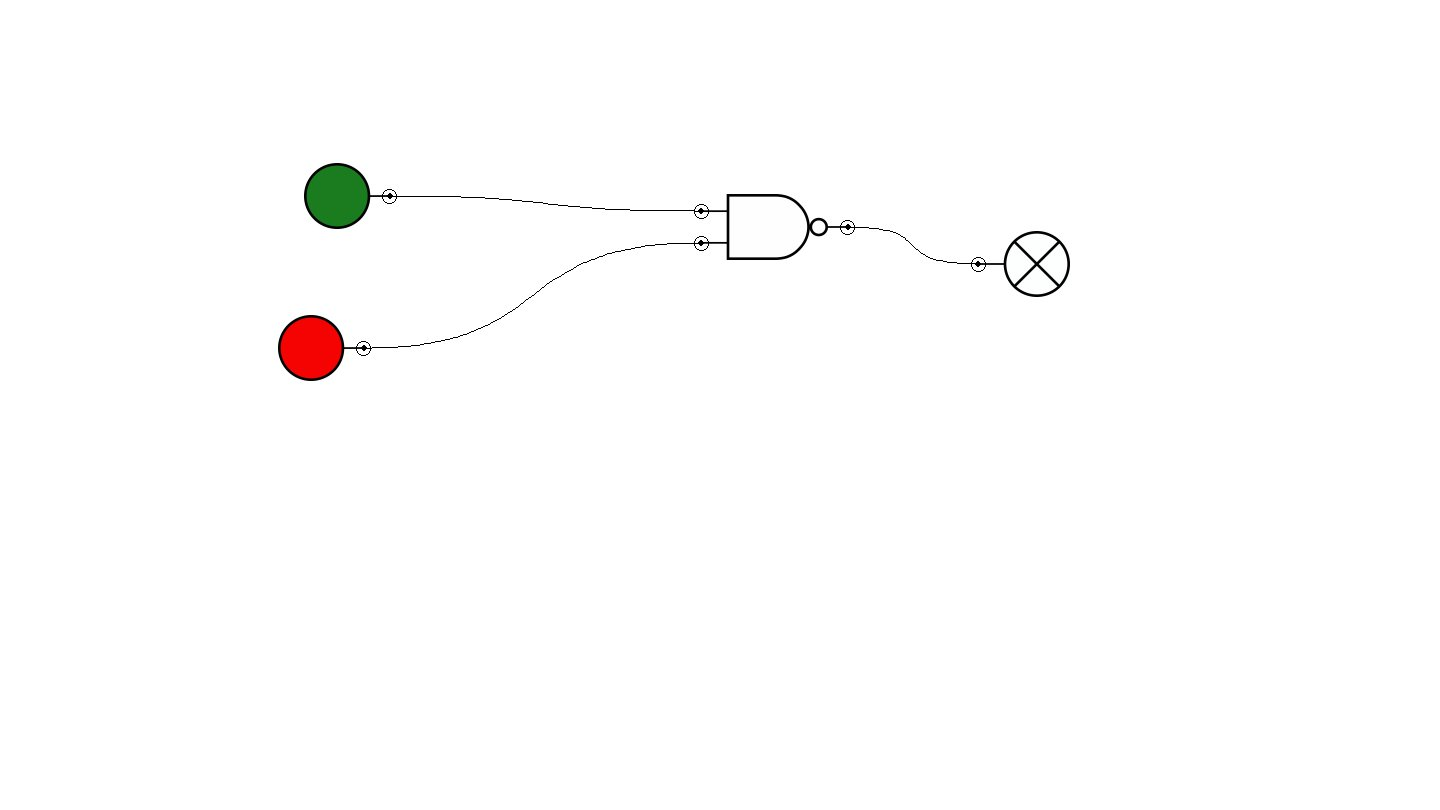bulb: (971, 231, 1070, 297)
nand: (694, 194, 855, 260)
switch_False: (278, 315, 371, 381)
switch_True: (304, 163, 397, 229)
